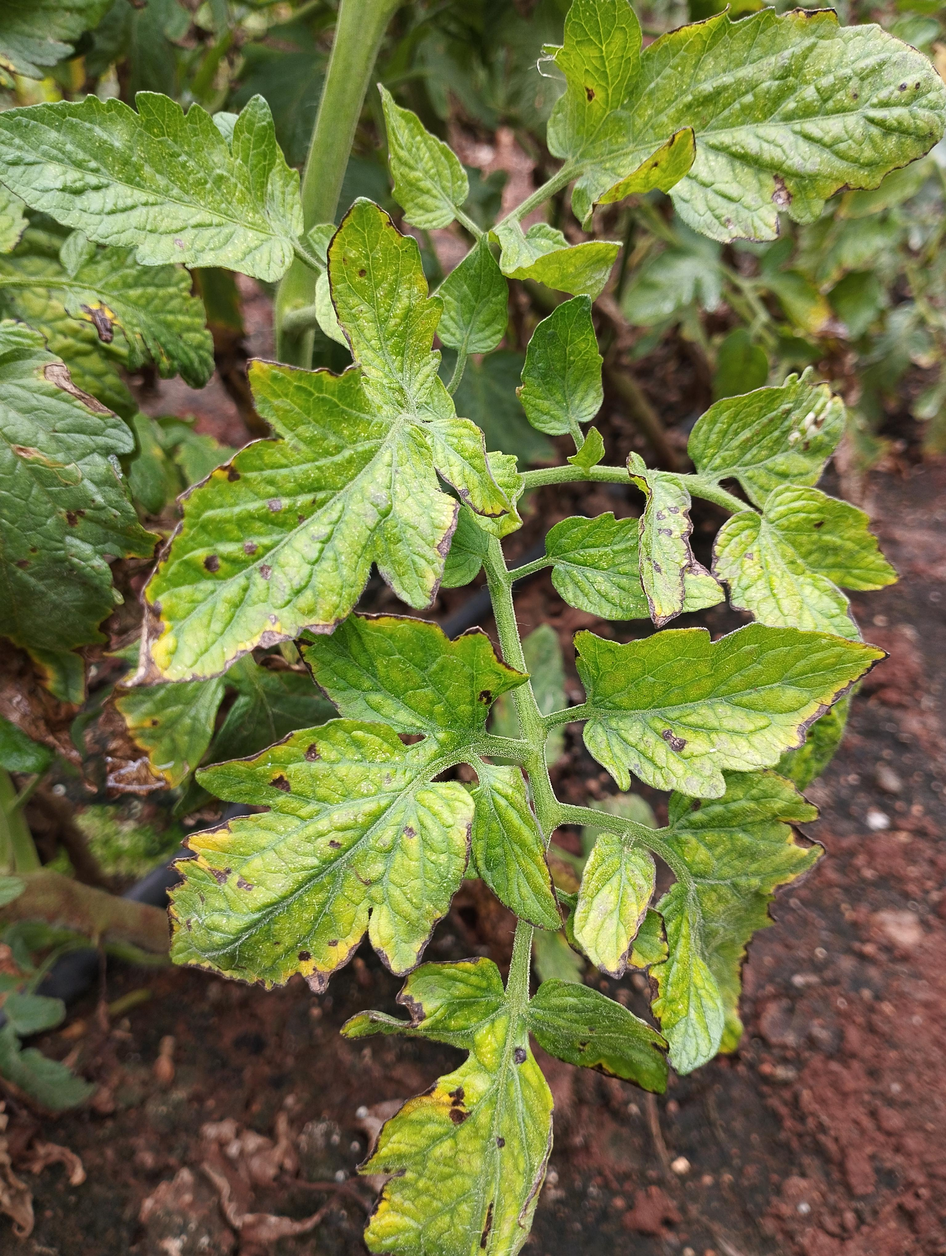Early Blight: (108, 352, 466, 693), (537, 2, 946, 251), (154, 716, 481, 1001), (332, 951, 558, 1256), (574, 628, 901, 801), (291, 608, 518, 752), (53, 229, 221, 394), (616, 449, 699, 632), (570, 828, 660, 986)
